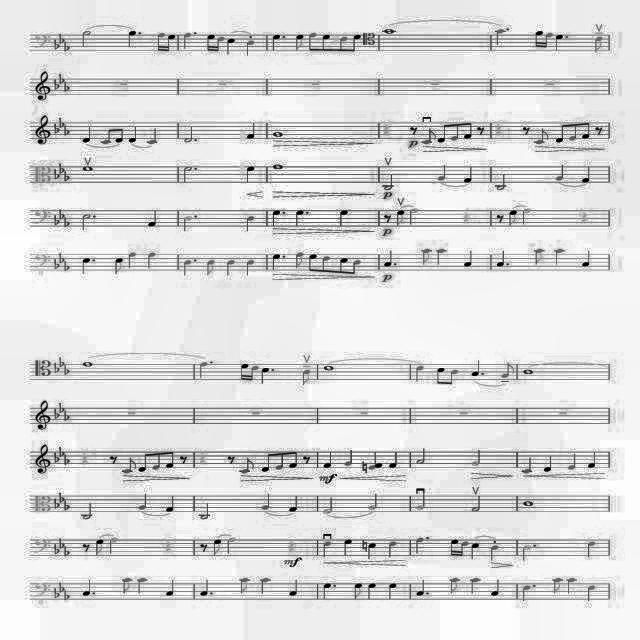Bass-clef: (34, 30, 46, 56), (34, 205, 46, 228), (36, 535, 46, 559), (34, 578, 46, 598), (37, 254, 47, 274)
Bemol: (62, 447, 70, 469), (50, 449, 59, 467), (61, 498, 70, 514), (56, 402, 66, 414), (50, 544, 60, 556), (51, 168, 58, 184), (63, 589, 71, 603), (56, 206, 64, 220), (63, 257, 69, 275), (51, 362, 60, 374), (62, 170, 70, 183), (59, 117, 66, 131), (62, 218, 70, 230), (65, 124, 71, 140), (56, 356, 64, 368), (52, 408, 60, 420), (56, 446, 64, 458), (56, 537, 64, 549), (52, 588, 60, 600), (57, 492, 65, 503), (53, 40, 59, 54), (52, 216, 59, 228), (52, 258, 59, 270), (64, 364, 70, 378), (62, 545, 70, 555), (56, 581, 64, 591), (58, 32, 64, 44), (59, 72, 65, 84), (53, 500, 59, 512), (60, 162, 64, 178), (66, 44, 70, 56), (54, 78, 58, 90), (66, 82, 70, 94), (54, 122, 58, 134), (59, 252, 63, 264), (66, 410, 70, 422)
Eighth-note: (439, 574, 457, 594), (502, 361, 514, 391), (116, 574, 132, 596), (137, 450, 151, 474), (308, 31, 320, 58), (349, 252, 359, 284), (448, 366, 464, 386), (536, 126, 552, 146), (261, 454, 275, 476), (120, 451, 132, 475), (274, 454, 286, 478), (337, 31, 348, 57), (548, 576, 562, 596), (590, 34, 604, 54), (295, 31, 305, 58), (92, 533, 104, 555), (434, 365, 446, 387), (204, 258, 216, 280), (239, 454, 251, 476), (321, 32, 334, 52), (150, 450, 163, 470), (466, 121, 478, 142), (288, 448, 298, 472), (351, 28, 361, 52), (554, 124, 564, 148), (164, 450, 176, 470), (416, 247, 429, 265), (526, 251, 542, 265), (234, 578, 248, 594), (320, 249, 328, 277), (111, 256, 122, 276), (351, 584, 364, 600), (334, 253, 346, 270), (306, 251, 316, 271), (99, 132, 111, 148), (436, 125, 444, 149), (302, 366, 310, 389), (393, 207, 403, 225), (568, 120, 576, 142), (454, 124, 461, 148), (584, 120, 592, 140), (294, 250, 302, 270), (212, 536, 220, 554), (508, 210, 516, 226), (116, 130, 124, 146), (424, 130, 432, 146)
Eighth-rest: (381, 205, 394, 225), (300, 450, 312, 470), (77, 541, 91, 557), (517, 124, 531, 140), (178, 450, 190, 468), (197, 540, 207, 558), (108, 452, 119, 468), (225, 454, 235, 466), (476, 125, 486, 137), (408, 126, 419, 134)
Full-note: (520, 494, 542, 514), (268, 126, 284, 144), (83, 358, 97, 378), (522, 362, 534, 382), (82, 164, 96, 176), (272, 160, 286, 172), (324, 362, 336, 374)
Full-rest: (534, 78, 574, 102), (421, 75, 447, 98), (455, 401, 481, 423), (354, 400, 382, 420), (113, 402, 147, 418), (550, 404, 582, 421), (210, 71, 233, 93), (248, 407, 272, 425), (307, 71, 323, 95), (113, 76, 133, 95)
Half-note: (74, 22, 95, 54), (76, 493, 95, 527), (366, 488, 382, 518), (194, 498, 212, 522), (409, 448, 428, 468), (178, 122, 194, 144), (178, 160, 194, 182), (466, 444, 482, 466), (493, 173, 509, 194), (382, 174, 393, 194), (78, 212, 89, 232), (407, 209, 417, 231), (325, 495, 335, 517), (178, 214, 190, 232), (419, 490, 428, 514), (108, 536, 118, 556), (472, 494, 481, 516), (518, 546, 530, 562), (228, 535, 236, 557), (521, 208, 531, 224)
Quarter-note: (576, 243, 596, 277), (162, 577, 182, 611), (484, 579, 504, 607), (286, 492, 302, 524), (284, 574, 300, 606), (564, 451, 580, 481), (582, 582, 598, 608), (256, 491, 272, 517), (144, 208, 160, 232), (538, 454, 554, 478), (132, 491, 148, 513), (386, 576, 398, 604), (589, 534, 601, 562), (464, 358, 480, 378), (516, 583, 532, 603), (382, 540, 398, 560), (78, 124, 94, 144), (160, 494, 176, 514), (386, 448, 399, 472), (144, 125, 156, 151), (225, 256, 238, 280), (564, 568, 576, 594), (412, 578, 423, 606), (260, 574, 274, 596), (431, 164, 447, 183), (137, 571, 147, 601), (368, 450, 380, 474), (492, 248, 504, 272), (412, 534, 424, 558), (468, 573, 479, 599), (125, 124, 139, 144), (124, 250, 138, 270), (268, 31, 280, 54), (196, 581, 208, 603), (588, 449, 600, 471), (367, 579, 378, 603), (322, 576, 332, 602), (144, 251, 158, 269), (270, 250, 280, 274), (380, 252, 392, 272), (242, 212, 254, 232), (179, 260, 191, 280), (320, 450, 332, 470), (338, 538, 350, 558), (461, 165, 474, 183), (246, 164, 258, 183), (552, 247, 564, 266), (520, 458, 534, 474), (368, 536, 376, 564), (469, 542, 479, 564), (245, 119, 255, 141), (242, 39, 254, 57), (337, 208, 349, 226), (342, 448, 354, 466), (486, 544, 499, 560), (75, 259, 88, 275), (581, 164, 591, 184), (414, 364, 424, 384), (492, 27, 503, 45), (79, 580, 91, 596), (435, 247, 445, 266), (196, 359, 207, 376), (226, 36, 234, 59), (293, 208, 303, 226), (126, 28, 134, 50), (556, 162, 564, 184), (272, 208, 280, 228), (260, 366, 268, 386), (245, 258, 253, 278), (463, 250, 473, 266), (554, 31, 562, 49), (183, 31, 190, 47), (325, 540, 331, 558), (88, 141, 89, 143)
Sixteenth-note: (154, 26, 164, 58), (234, 357, 246, 383), (248, 360, 258, 384), (459, 536, 468, 560), (216, 32, 224, 56), (204, 33, 213, 53), (534, 27, 542, 49), (168, 28, 175, 50), (448, 538, 456, 554), (546, 30, 552, 50)
Treble-clef: (28, 441, 50, 479), (34, 66, 50, 110), (32, 115, 52, 149), (34, 399, 50, 433)
